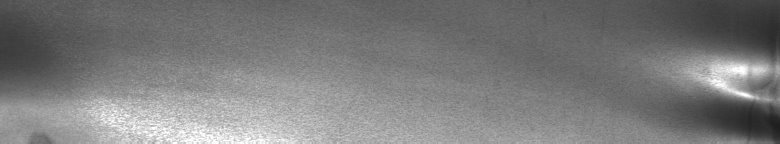ke: (728, 89, 774, 108)
